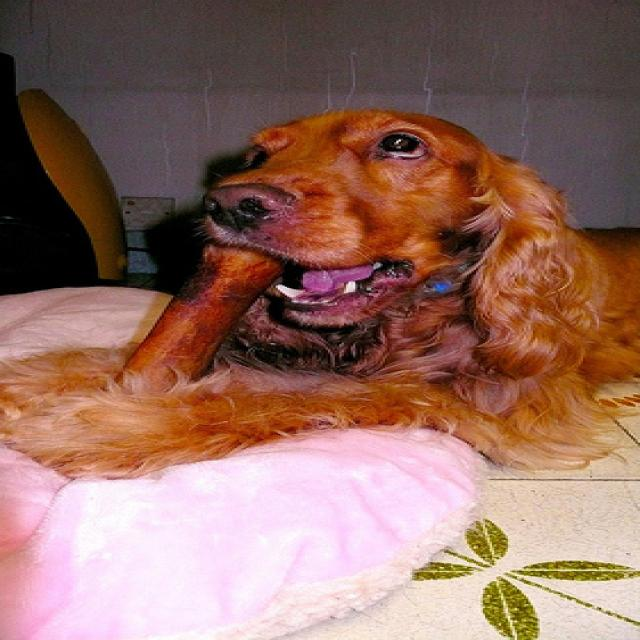dog: (198, 109, 604, 374)
